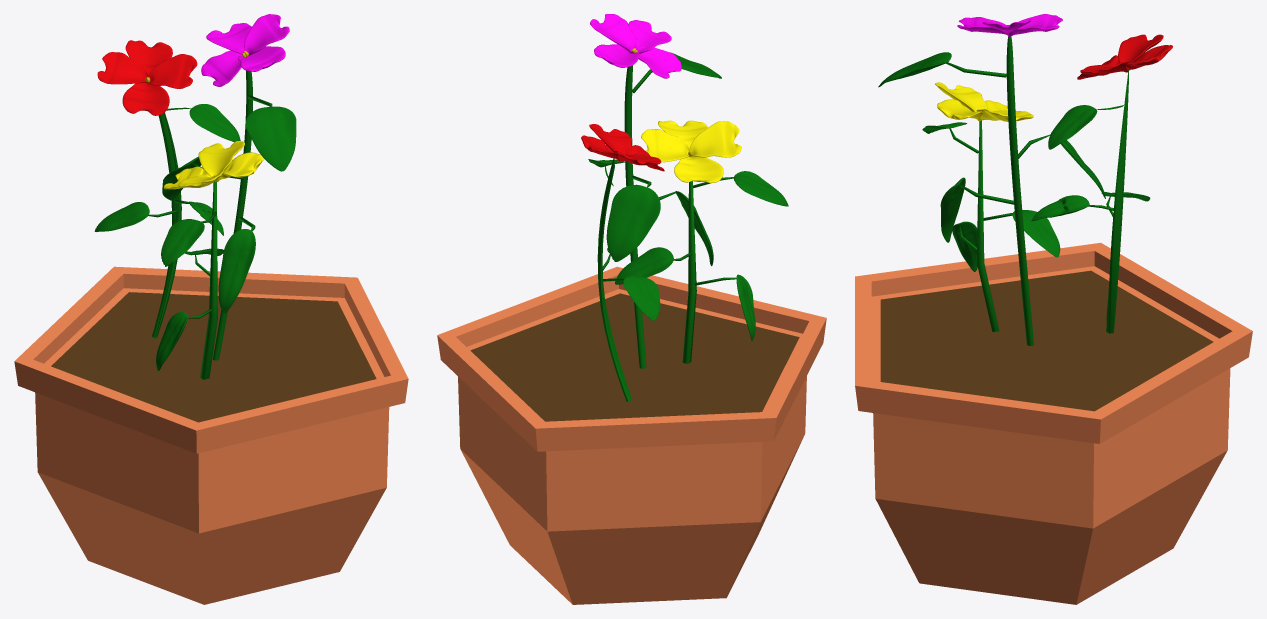
File: Alegria.fbx
3 renders of one model, left to right at view 1: azimuth 30°, elevation 25°; view 2: azimuth 150°, elevation 25°; view 3: azimuth 270°, elevation 25°, orthographic. The views are drawn at different scales.
Visible parts, largest first — view 1: Pot; view 2: Pot; view 3: Pot.
Boxes of the visible parts, x1,y1,x2,y2 form: Pot: (14, 14, 408, 604); Pot: (437, 14, 826, 604); Pot: (855, 14, 1252, 604).
Bounding box in the file's own units: 73.01 × 107 × 69.44.
